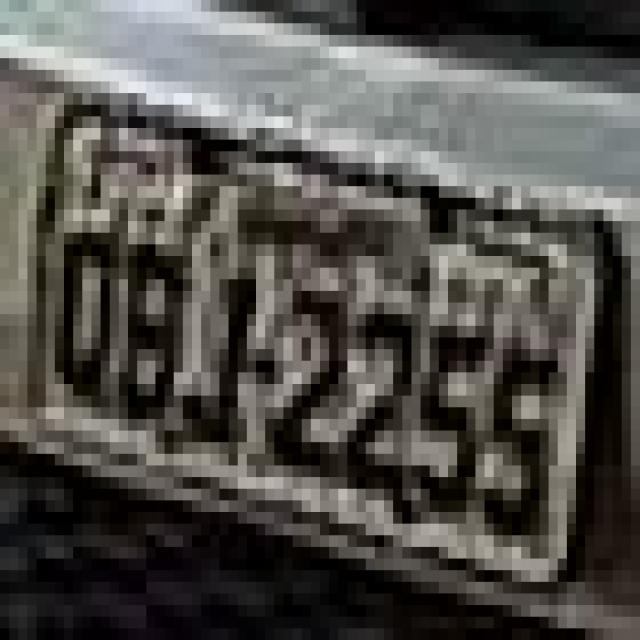5: (483, 333, 568, 558), (415, 286, 491, 516)
B: (121, 206, 183, 435)
J: (170, 245, 274, 460)
Q: (56, 229, 114, 409)
